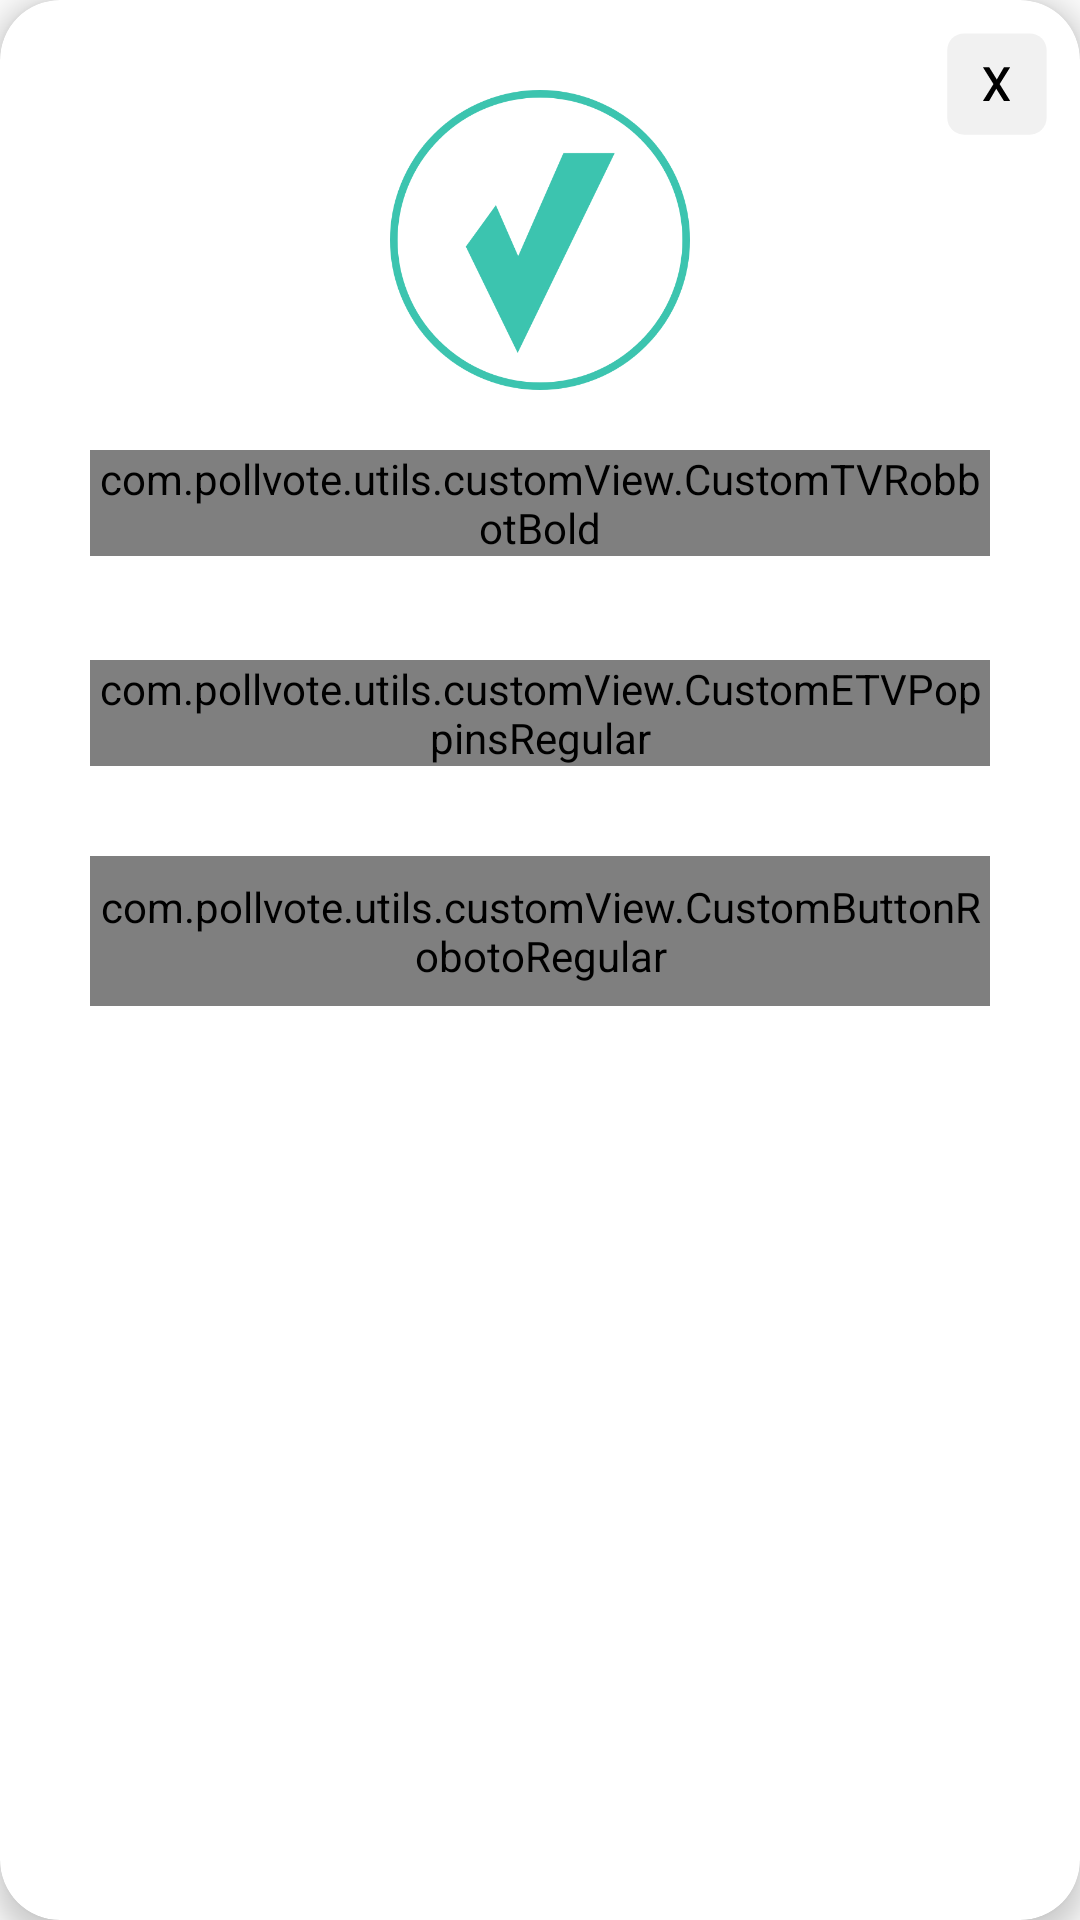

Icons on this 1080px×1920px Android screen, each with its box as [x1, y1, x2, y2]:
cross: [947, 34, 1047, 135]
validate: [390, 90, 690, 390]
